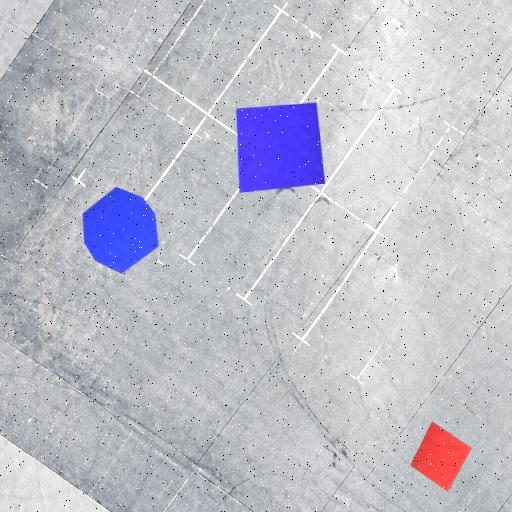BLUE_SQUARE: (236, 102, 326, 194)
RED_SQUARE: (410, 421, 472, 492)
